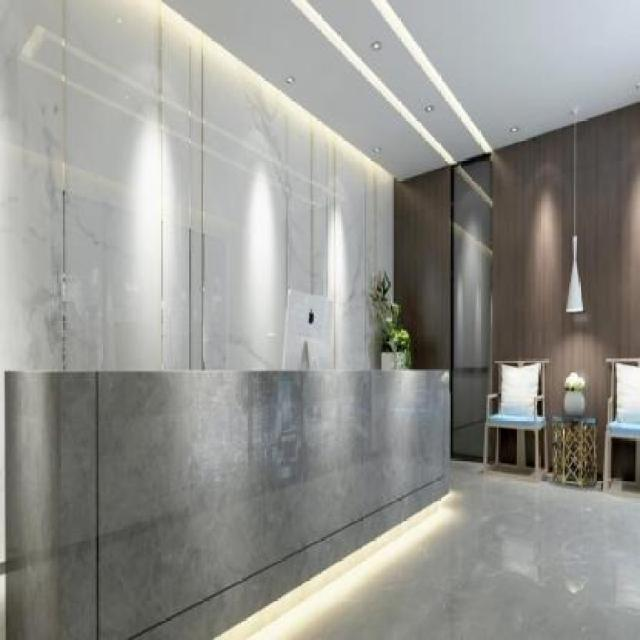frontdesk: (0, 346, 455, 640)
